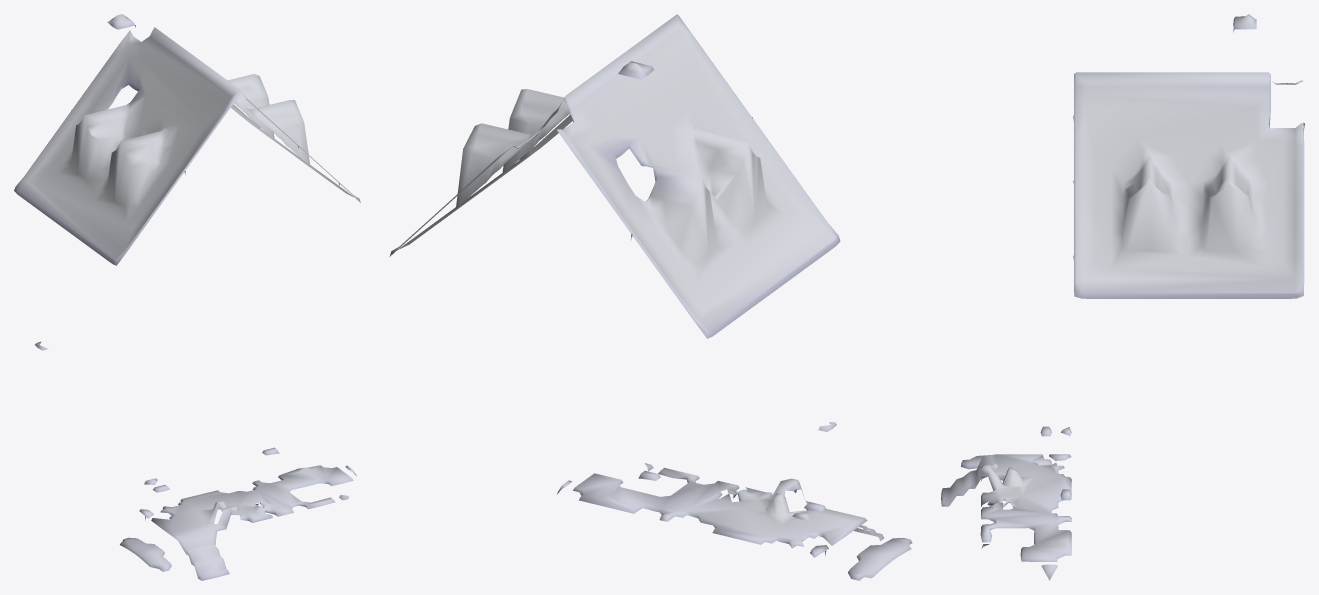
The model's file is category.bridge.l.snow.glb.
3 renders of one model, left to right at view 1: azimuth 30°, elevation 25°; view 2: azimuth 150°, elevation 25°; view 3: azimuth 270°, elevation 25°, orthographic. The views are drawn at different scales.
Parts seen in each view (by area): view 1: snow; view 2: snow; view 3: snow.
Part boxes in pixels (x1,y1,x2,y2): snow: (14, 14, 360, 580); snow: (389, 14, 912, 580); snow: (941, 14, 1304, 580).
Size of the model in its own units: 9.3 by 14.29 by 9.32.
